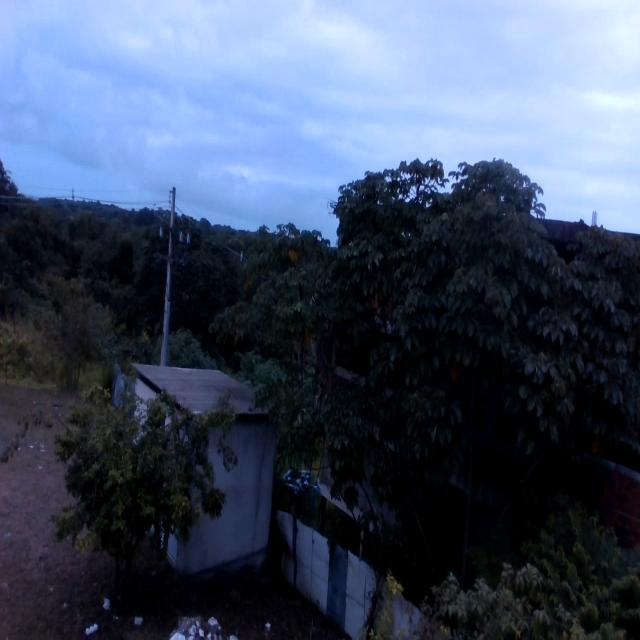-uav-: (273, 441, 332, 532)
